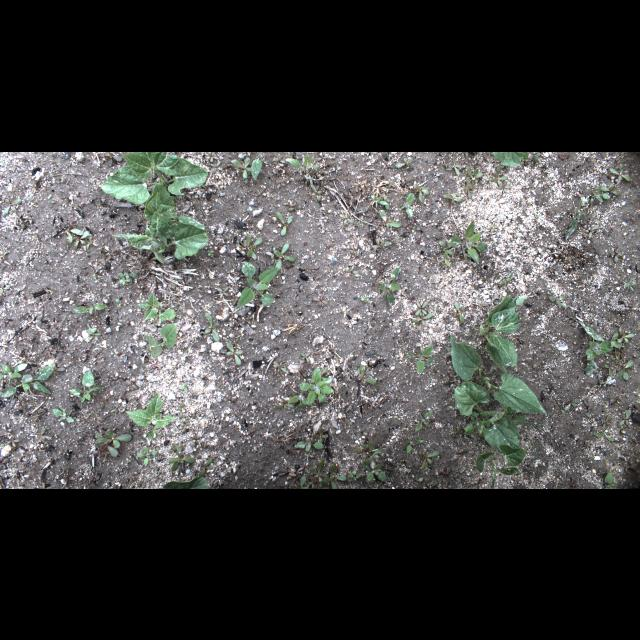crop: (448, 332, 550, 412), (110, 189, 212, 265), (456, 383, 532, 472), (98, 151, 212, 203), (479, 288, 528, 367)
weed: (121, 390, 181, 446), (580, 328, 632, 389), (236, 256, 284, 318), (1, 352, 59, 398), (440, 217, 488, 267), (300, 364, 338, 412), (139, 283, 181, 325), (281, 154, 331, 188), (282, 460, 346, 484), (144, 321, 178, 361), (578, 180, 620, 210), (359, 440, 391, 478), (59, 222, 93, 255), (266, 243, 298, 275), (94, 432, 136, 456), (68, 366, 94, 404), (173, 444, 209, 470), (382, 263, 406, 301), (488, 152, 538, 170), (294, 428, 328, 454), (234, 230, 262, 258), (229, 156, 261, 180), (226, 339, 250, 371), (376, 208, 402, 236), (202, 304, 220, 342), (68, 300, 114, 314), (51, 406, 75, 432), (359, 358, 381, 386), (416, 342, 434, 376), (416, 406, 438, 432), (371, 185, 392, 209), (462, 174, 478, 204), (418, 296, 437, 320), (394, 153, 418, 170), (422, 448, 442, 468), (274, 216, 294, 234), (404, 189, 416, 219)
